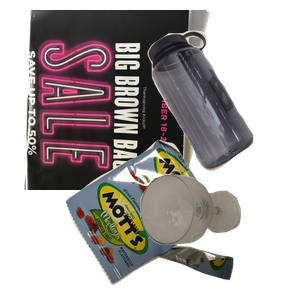glass: (138, 172, 300, 300)
paper: (22, 10, 225, 190)
plastic: (145, 28, 300, 192)
trash: (63, 137, 289, 300)
